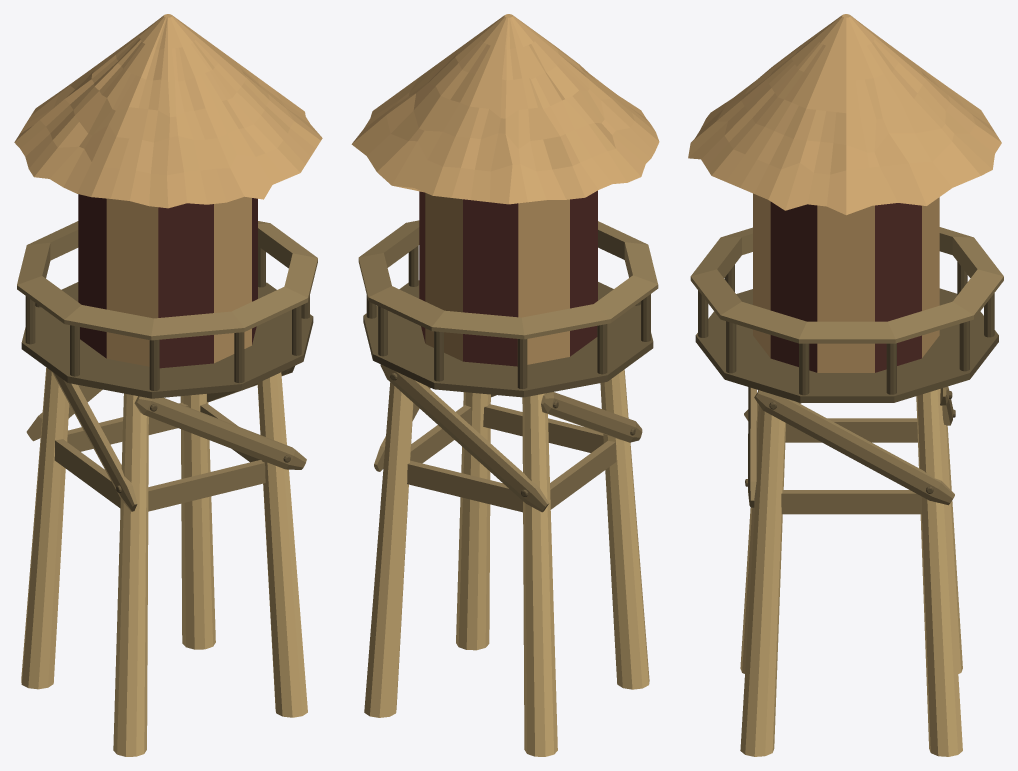
File: Tower_Water_1_White.fbx
3 views of the same model, side by side, from view 1: azimuth 30°, elevation 25°; view 2: azimuth 150°, elevation 25°; view 3: azimuth 270°, elevation 25° (orthographic). The views are drawn at different scales.
Parts seen in each view (by area): view 1: Cylinder.382, Cylinder.381, Cylinder.380, Cylinder.379, Cylinder.360, Cylinder.353, Cylinder.357, Cylinder.358, Cylinder.359, Cube.594, Cube.589, Cube.595 (+5 smaller); view 2: Cylinder.382, Cylinder.381, Cylinder.380, Cylinder.379, Cylinder.360, Cylinder.358, Cylinder.359, Cylinder.353, Cylinder.357, Cube.592, Cube.588, Cube.595 (+5 smaller); view 3: Cylinder.382, Cylinder.380, Cylinder.381, Cylinder.379, Cylinder.360, Cylinder.357, Cylinder.359, Cube.593, Cube.591, Cube.590, Cylinder.358, Cylinder.353 (+5 smaller).
Part boxes in pixels (x1=…): Cylinder.382: x1=14, y1=14, x2=322, y2=208; Cylinder.381: x1=78, y1=194, x2=257, y2=368; Cylinder.380: x1=106, y1=196, x2=251, y2=366; Cylinder.379: x1=17, y1=221, x2=317, y2=340; Cylinder.360: x1=21, y1=282, x2=313, y2=398; Cylinder.353: x1=113, y1=393, x2=148, y2=756; Cylinder.357: x1=257, y1=372, x2=307, y2=717; Cylinder.358: x1=21, y1=367, x2=69, y2=689; Cylinder.359: x1=180, y1=394, x2=215, y2=649; Cube.594: x1=134, y1=396, x2=306, y2=469; Cube.589: x1=148, y1=460, x2=265, y2=511; Cube.595: x1=52, y1=371, x2=137, y2=511; Cylinder.382: x1=351, y1=14, x2=659, y2=204; Cylinder.381: x1=419, y1=190, x2=597, y2=366; Cylinder.380: x1=425, y1=193, x2=569, y2=364; Cylinder.379: x1=358, y1=220, x2=658, y2=339; Cylinder.360: x1=363, y1=280, x2=653, y2=397; Cylinder.358: x1=522, y1=393, x2=557, y2=756; Cylinder.359: x1=364, y1=382, x2=413, y2=717; Cylinder.353: x1=600, y1=369, x2=649, y2=689; Cylinder.357: x1=456, y1=392, x2=490, y2=650; Cube.592: x1=380, y1=364, x2=549, y2=512; Cube.588: x1=407, y1=460, x2=522, y2=512; Cube.595: x1=541, y1=392, x2=642, y2=442; Cylinder.382: x1=688, y1=14, x2=1001, y2=215; Cylinder.380: x1=753, y1=193, x2=939, y2=372; Cylinder.381: x1=770, y1=202, x2=921, y2=372; Cylinder.379: x1=690, y1=227, x2=1003, y2=343; Cylinder.360: x1=695, y1=288, x2=998, y2=402; Cylinder.357: x1=740, y1=408, x2=785, y2=756; Cylinder.359: x1=916, y1=389, x2=962, y2=756; Cube.593: x1=754, y1=390, x2=954, y2=505; Cube.591: x1=781, y1=490, x2=921, y2=514; Cube.590: x1=785, y1=418, x2=917, y2=442; Cylinder.358: x1=943, y1=420, x2=962, y2=673; Cylinder.353: x1=740, y1=390, x2=760, y2=673.
Size of the model in its own units: 1854 by 4465 by 1842.
